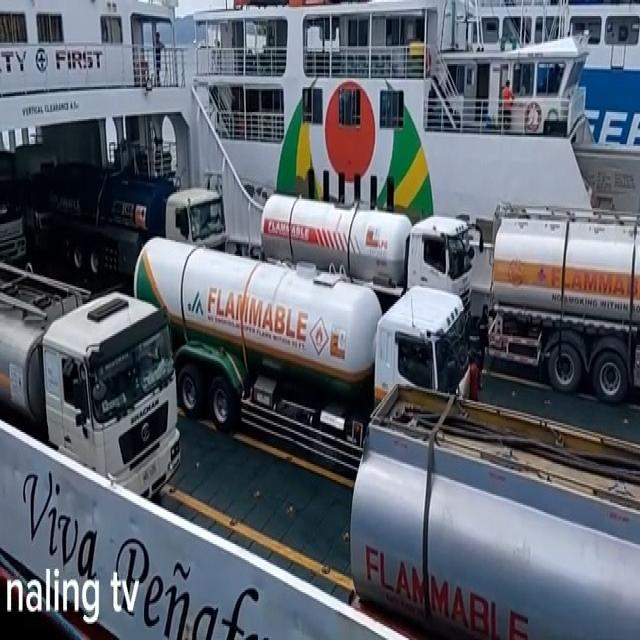truck: (136, 236, 472, 471), (0, 260, 182, 502), (260, 195, 477, 348), (489, 206, 640, 404)
